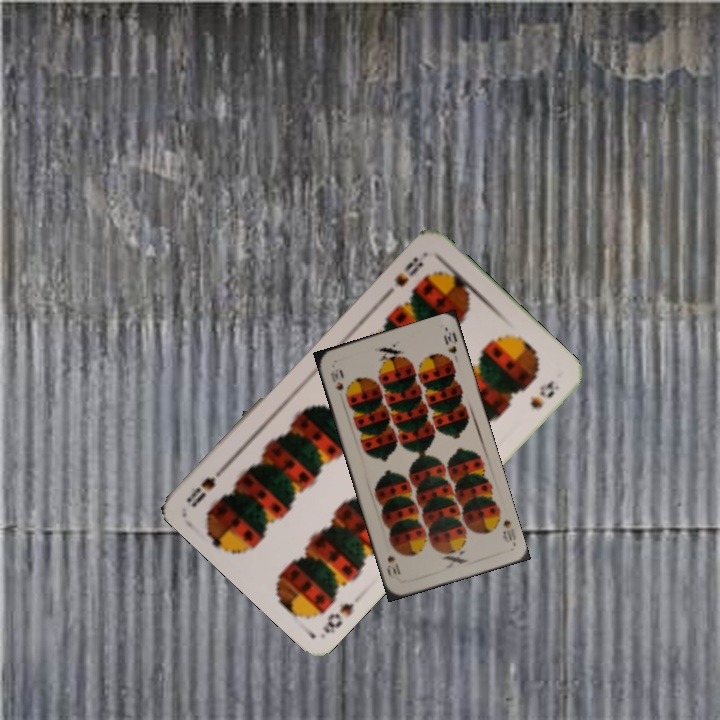S10: (326, 366, 350, 400), (498, 514, 519, 547)
S8: (390, 249, 429, 289), (319, 598, 357, 637)
